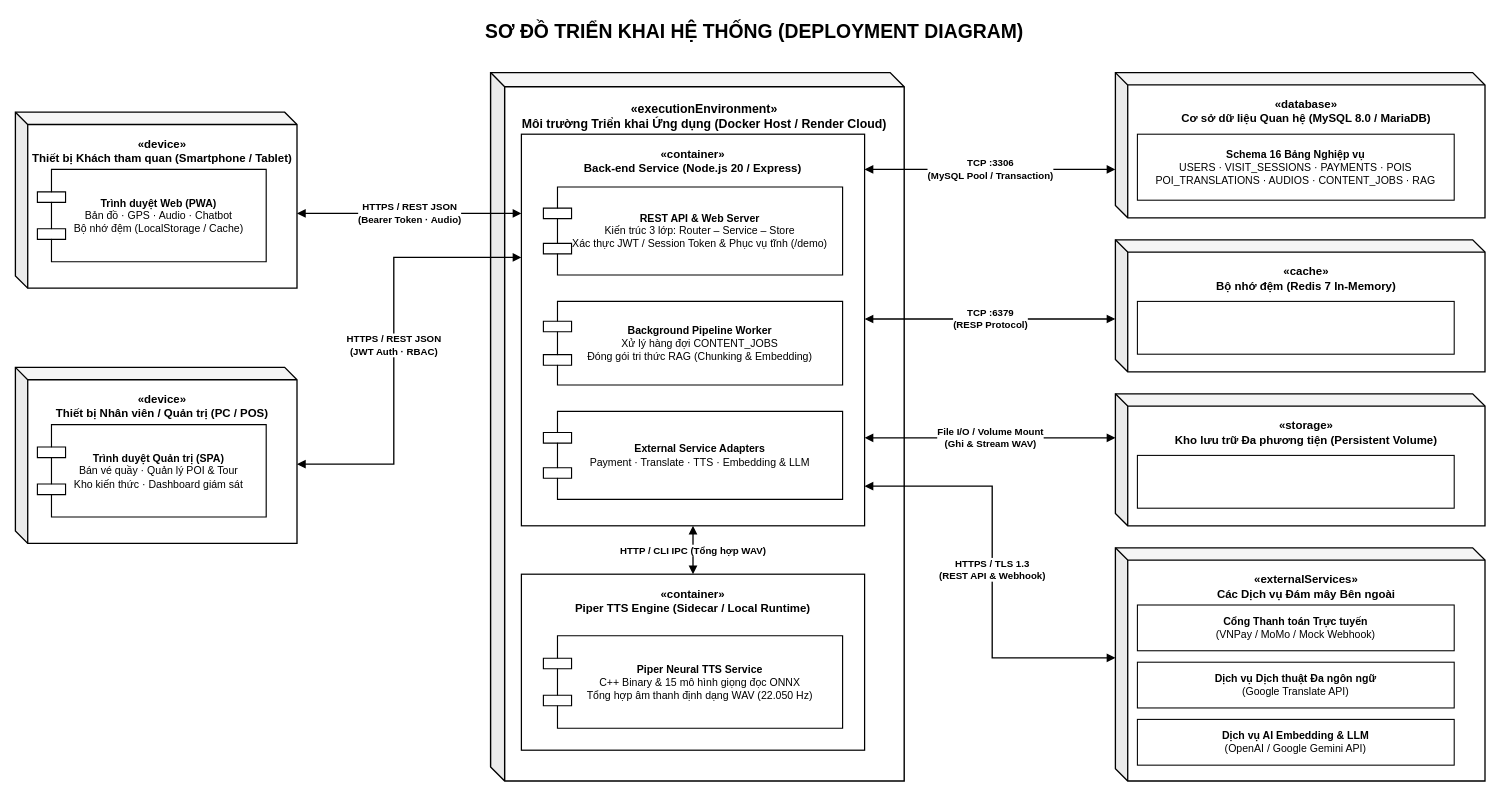
Image size: 1509x796. Some labels were removed from this diagram. The centre of each missing label's shape, as x and y in pixels:
"Key-Value Ephemeral Store Claim Code (TTL) · Rate Limiting · Online Presence" belongs at (x=1295, y=327).
"Thư mục Media Tĩnh Tệp âm thanh thuyết minh (.wav) & Hình ảnh POI" belongs at (x=1295, y=481).
